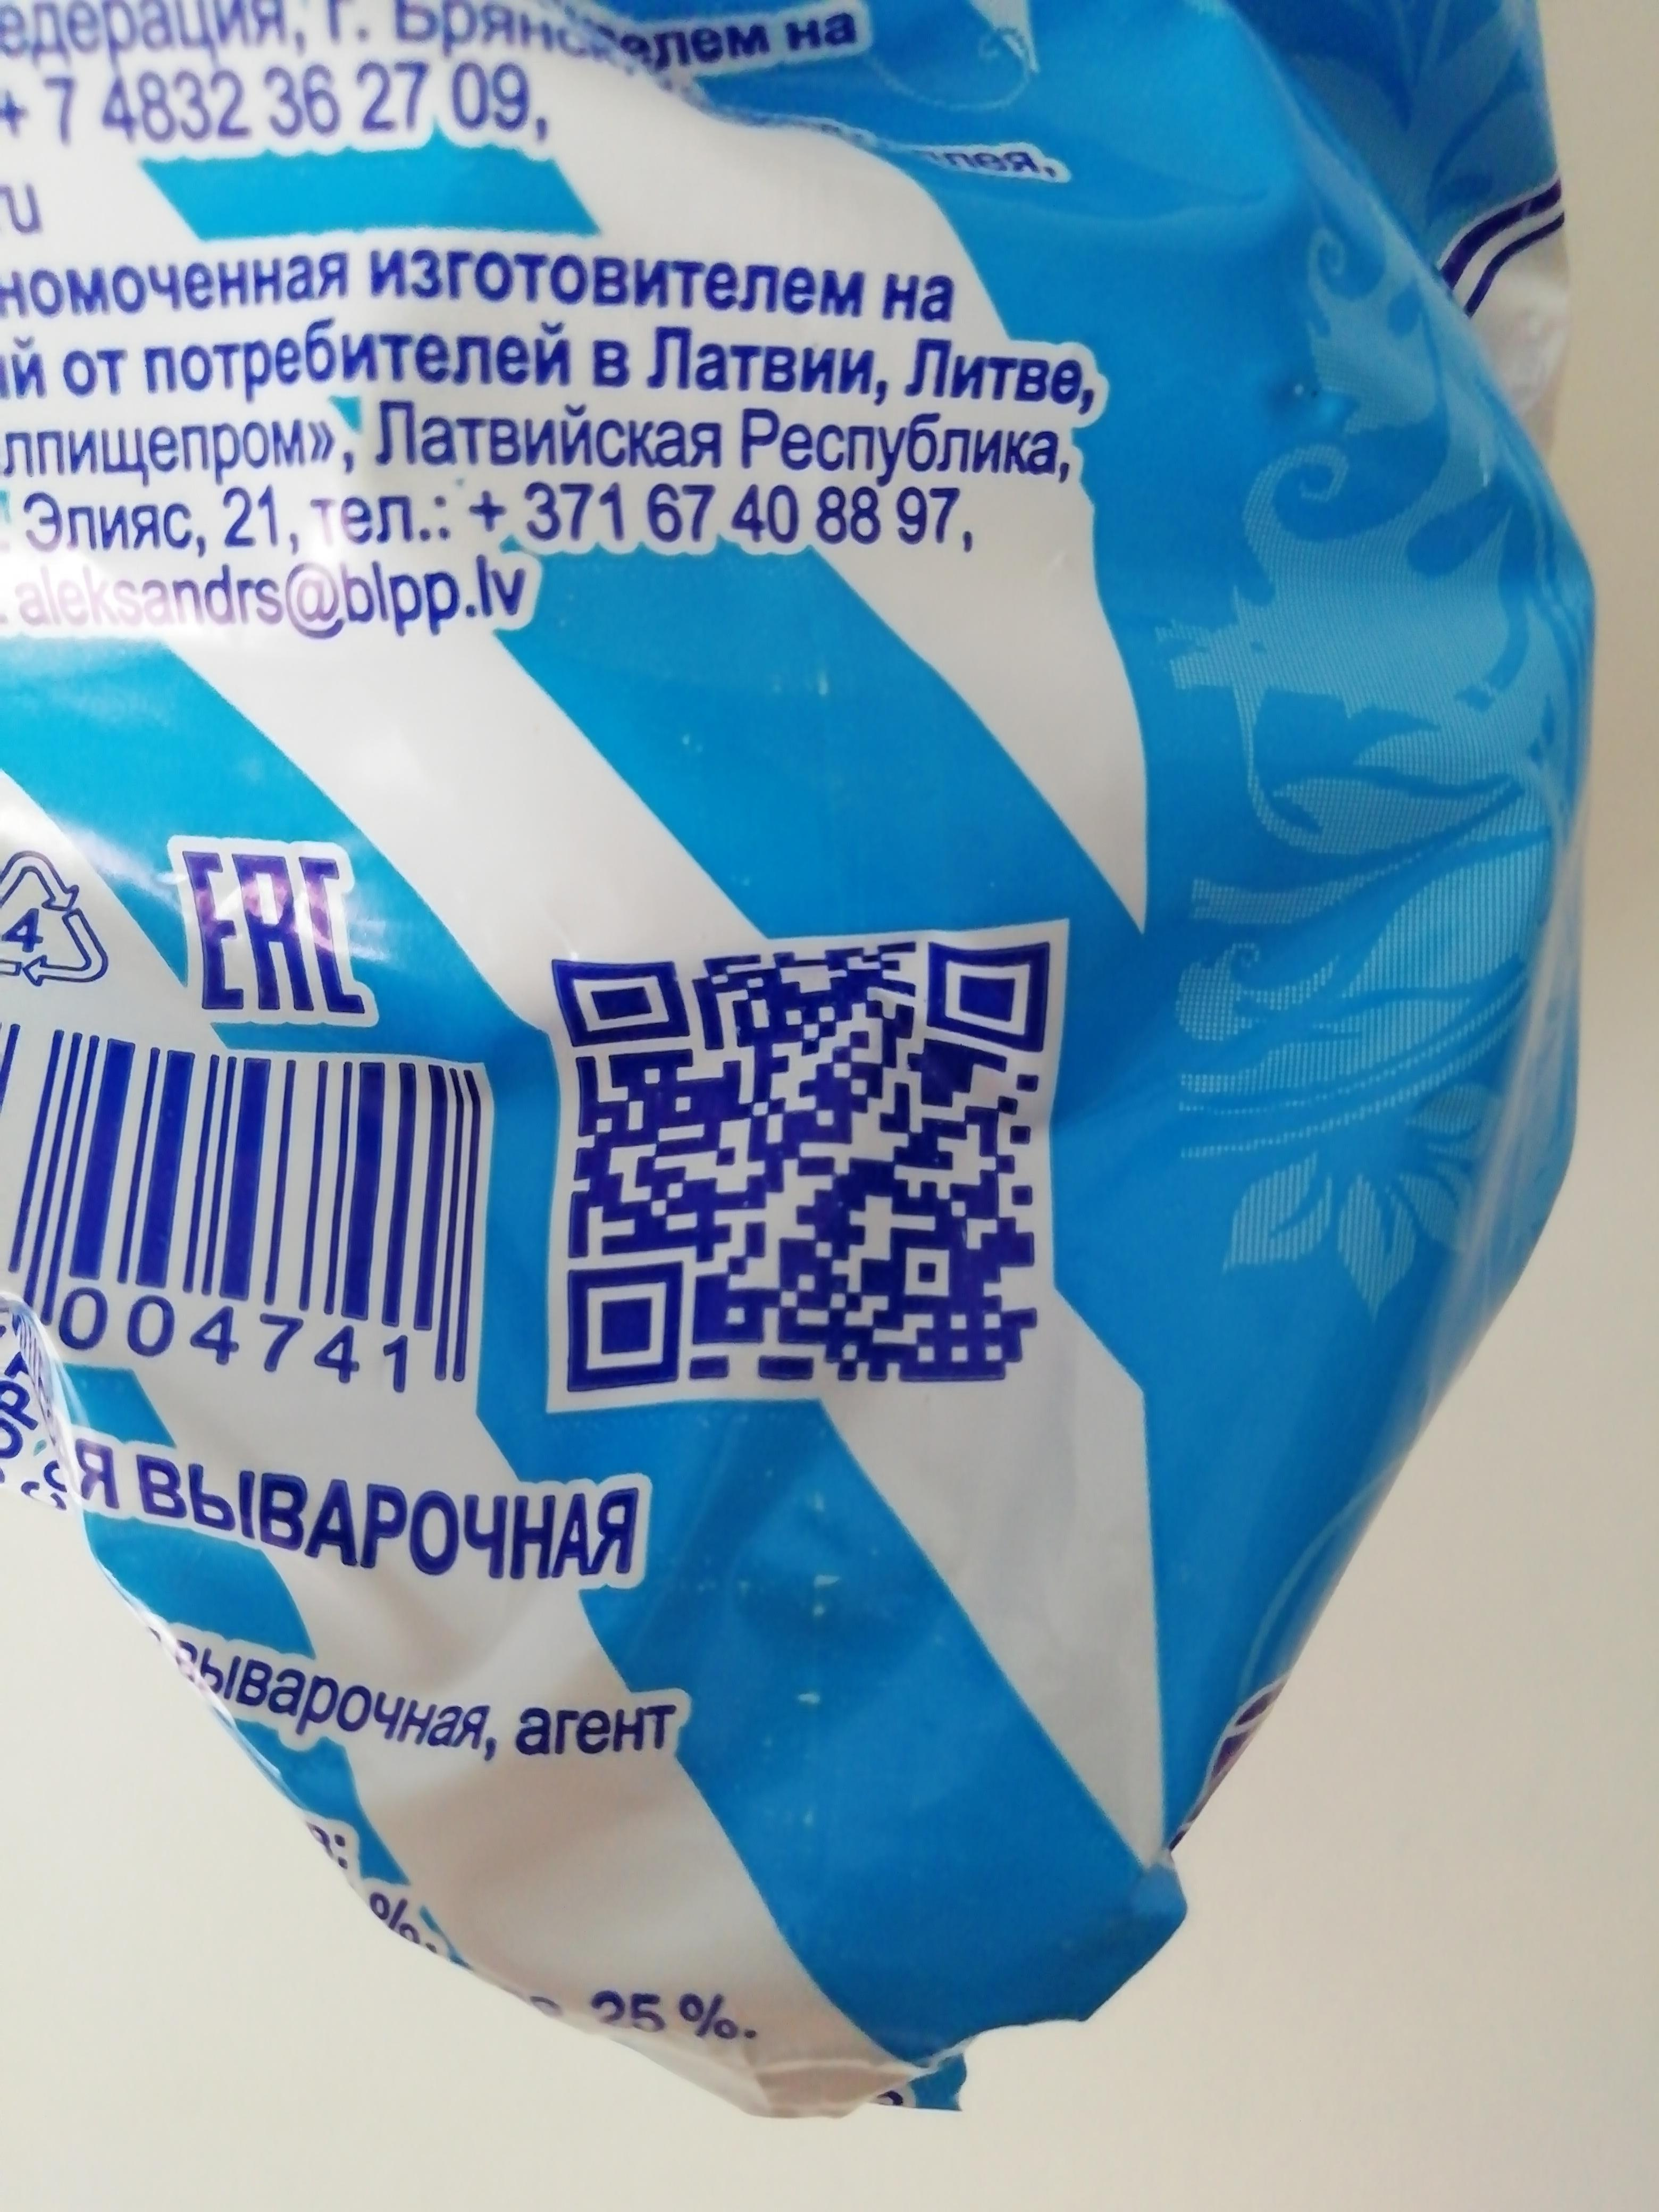qrcode: (549, 942, 1053, 1388)
